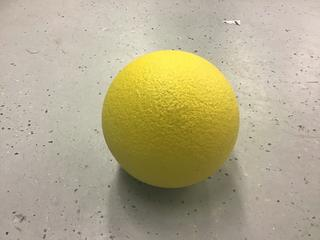power_cell: (106, 51, 242, 177)
